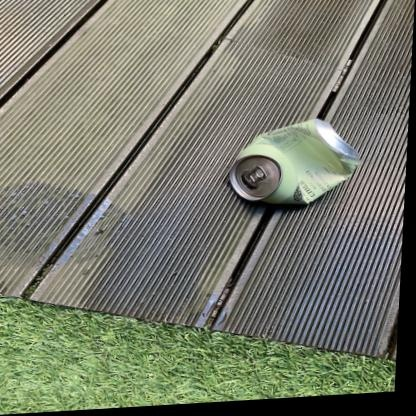trash: (229, 119, 358, 203)
